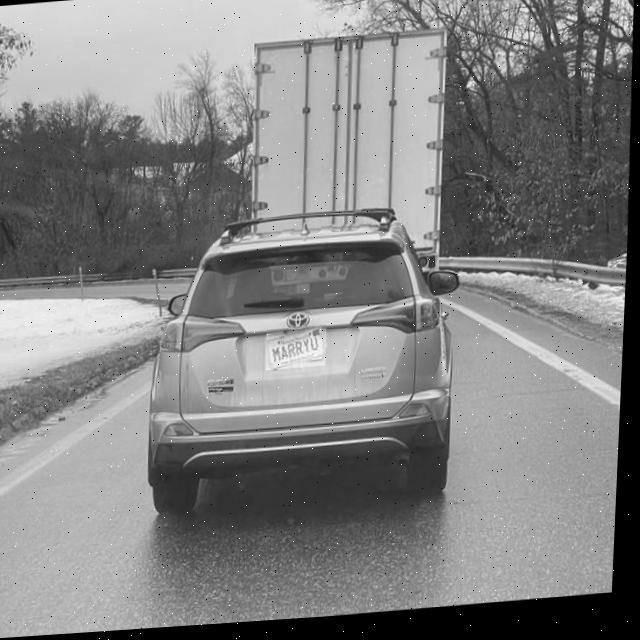LicensePlate: (270, 330, 329, 373)
